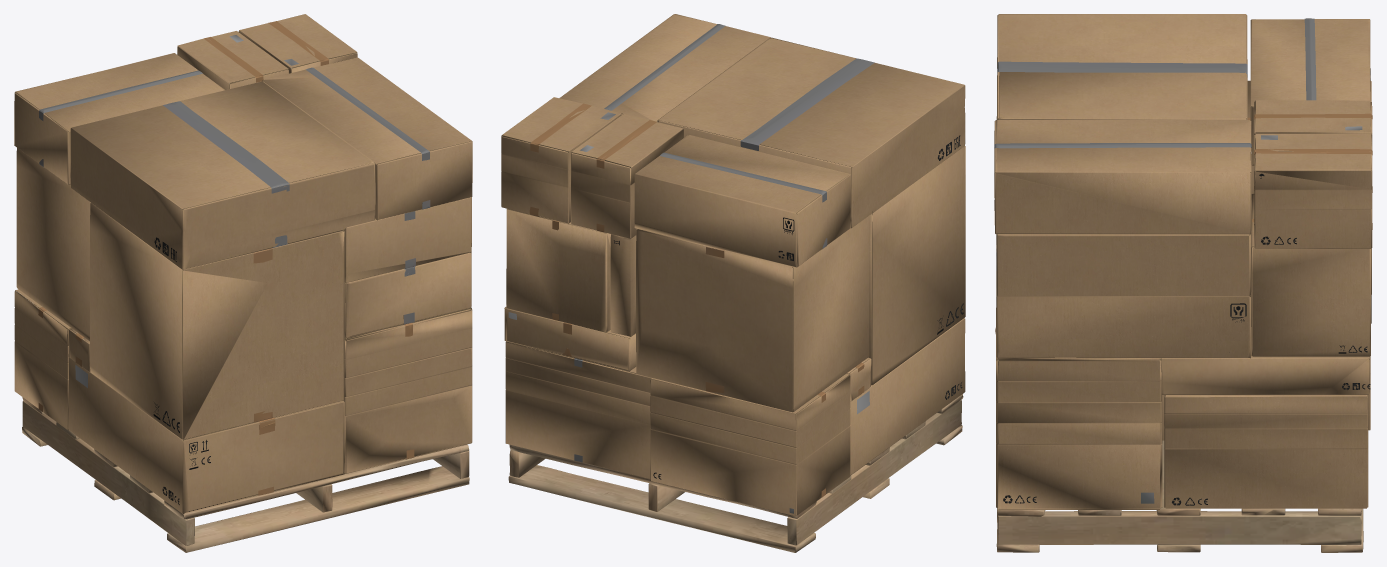
The model's file is pallet_loaded_hero.glb.
3 views of the same model, side by side, from view 1: azimuth 30°, elevation 25°; view 2: azimuth 150°, elevation 25°; view 3: azimuth 270°, elevation 25° (orthographic). The views are drawn at different scales.
Visible parts, largest first — view 1: body; view 2: body; view 3: body.
Part boxes in pixels (bbox=[...]): body: bbox=[14, 14, 472, 552]; body: bbox=[501, 14, 965, 552]; body: bbox=[994, 14, 1372, 552].
Bounding box in the file's own units: 0.9205 × 1.04 × 0.9283.
Materials: 3 (2 with a texture image).
